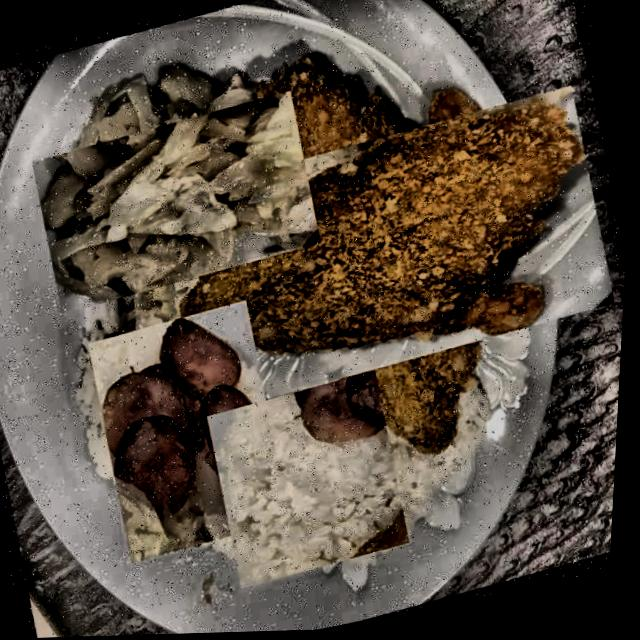Food: (179, 48, 596, 458), (42, 70, 314, 337), (79, 297, 307, 569), (200, 369, 426, 591)
